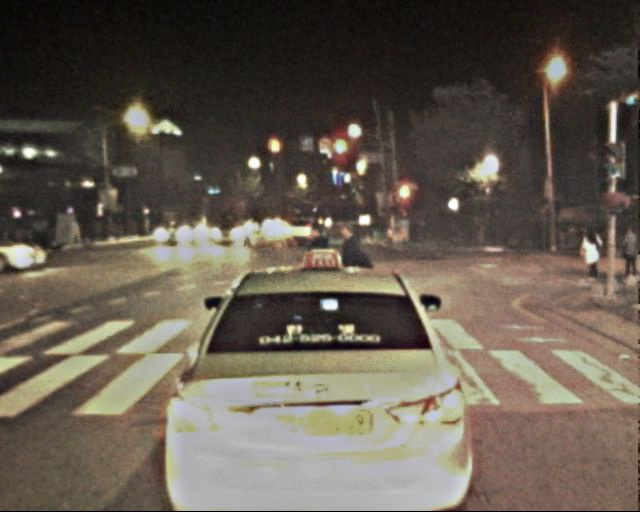person: (337, 216, 370, 320), (307, 220, 340, 317), (580, 226, 605, 287), (617, 227, 639, 285)
